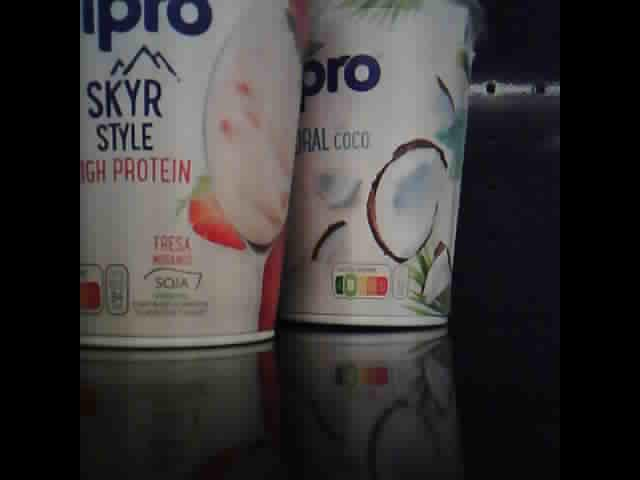alpro: (81, 1, 307, 351), (282, 1, 485, 329)
